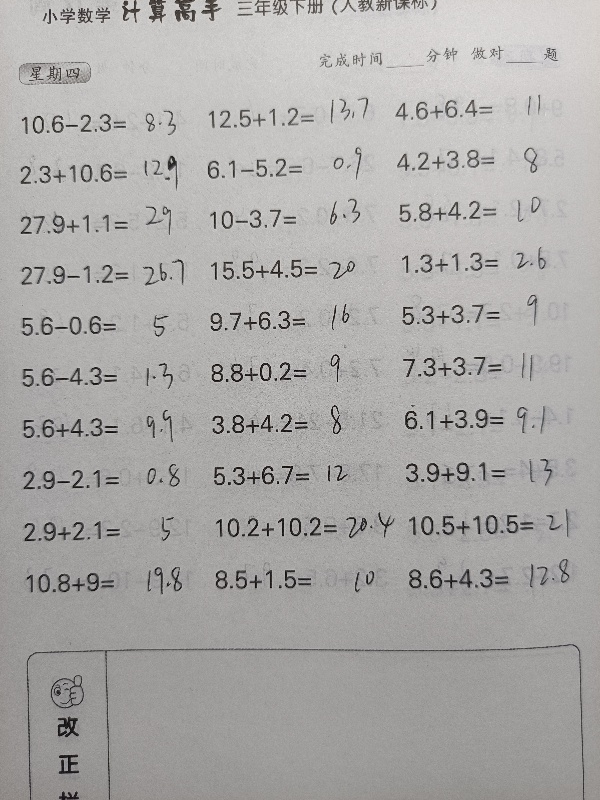equation: (396, 397, 576, 438), (17, 565, 197, 600), (207, 562, 387, 597), (400, 561, 580, 596), (16, 514, 196, 549), (205, 458, 385, 493), (397, 455, 577, 490), (14, 410, 194, 445), (203, 405, 383, 440), (13, 358, 193, 393), (202, 354, 382, 389), (394, 348, 574, 383), (13, 308, 193, 343), (393, 297, 573, 332), (202, 251, 382, 286), (393, 245, 573, 280), (201, 201, 381, 236), (390, 194, 570, 229), (11, 156, 191, 191), (388, 142, 568, 177), (387, 92, 567, 127), (14, 462, 194, 496), (201, 303, 381, 337), (12, 257, 192, 291), (12, 208, 192, 242), (198, 151, 378, 185), (13, 106, 193, 140), (200, 101, 380, 135)
